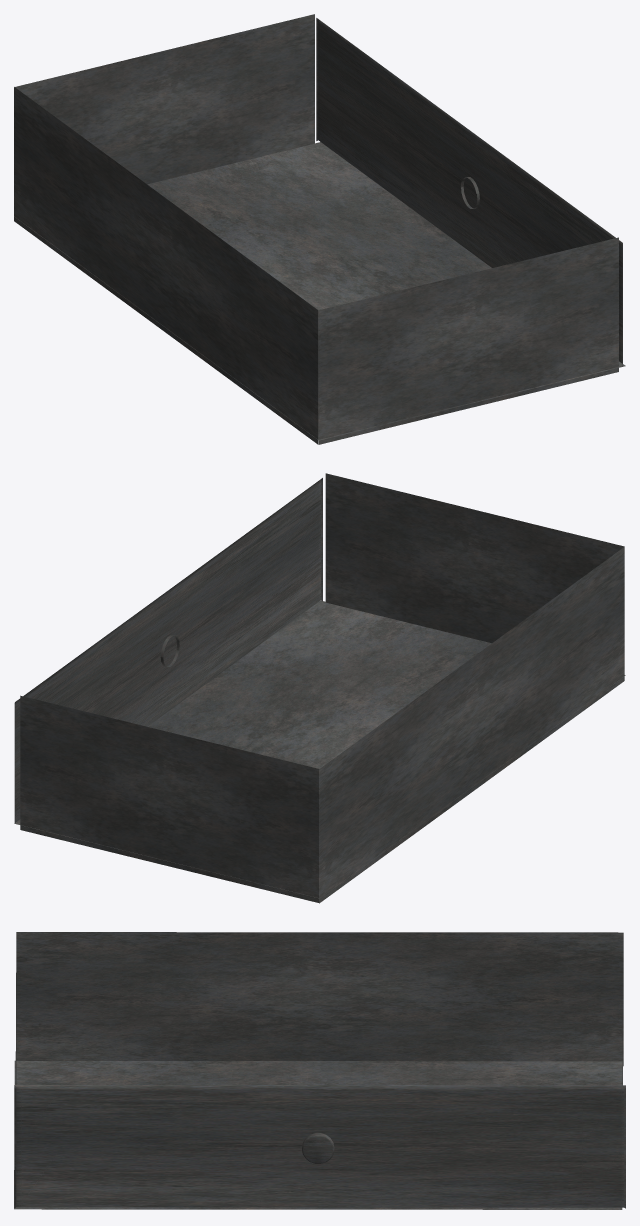
Rendered from bandeja.obj.
3 views of the same model, one above another, from view 1: azimuth 30°, elevation 25°; view 2: azimuth 150°, elevation 25°; view 3: azimuth 270°, elevation 25° (orthographic).
Parts seen in each view (by area): view 1: Plane.011; view 2: Plane.011; view 3: Plane.011.
Boxes of the visible parts, <box> form: Plane.011: <box>14,14,625,444</box>; Plane.011: <box>14,473,625,903</box>; Plane.011: <box>14,932,625,1209</box>.
Size of the model in its own units: 1.91 by 0.793 by 3.29.
Materials: 1 (1 with a texture image).
